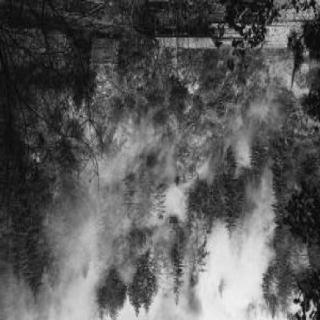Fire: (192, 212, 212, 278), (43, 222, 53, 232)
Smoke: (212, 236, 262, 312), (72, 235, 104, 277)
